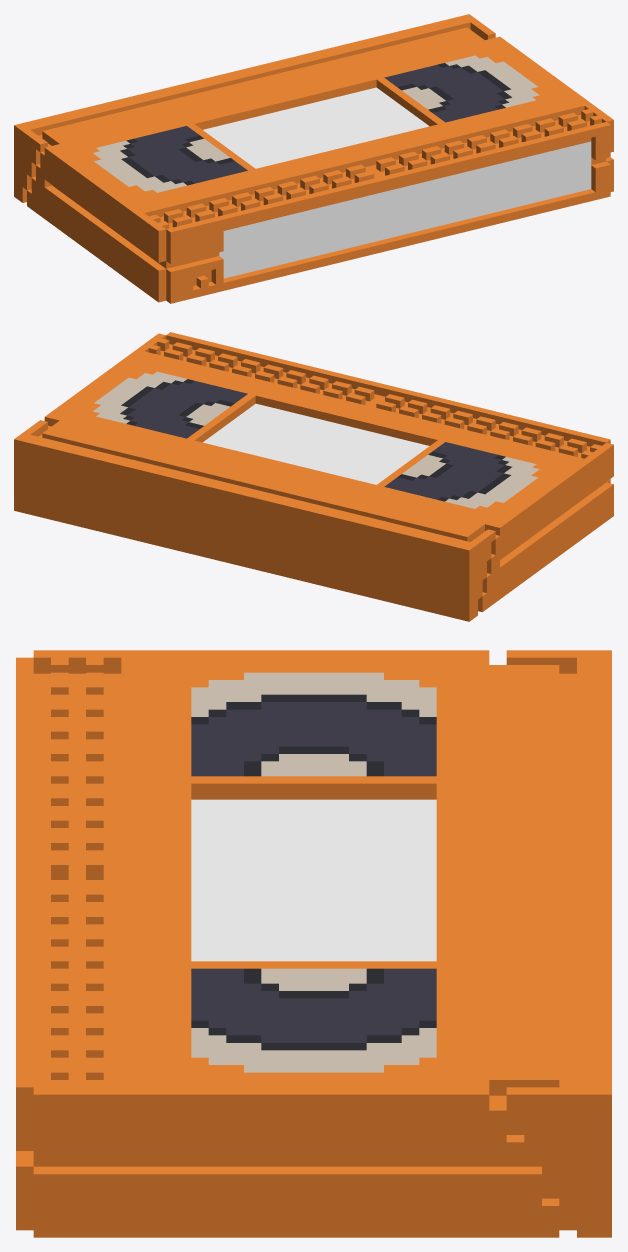
The model's file is bedroom-desk-view-television-5-vhs tape.obj.
3 renders of one model, top to bottom at view 1: azimuth 30°, elevation 25°; view 2: azimuth 150°, elevation 25°; view 3: azimuth 270°, elevation 25°, orthographic. The views are drawn at different scales.
Parts seen in each view (by area): view 1: vhs tape; view 2: vhs tape; view 3: vhs tape.
Boxes of the visible parts, box(x1,y1,x2,y2) form: vhs tape: box(14, 14, 613, 303); vhs tape: box(14, 332, 613, 621); vhs tape: box(16, 650, 611, 1237).
Bounding box in the file's own units: 6 × 0.9 × 3.4.
Materials: 1 (1 with a texture image).
